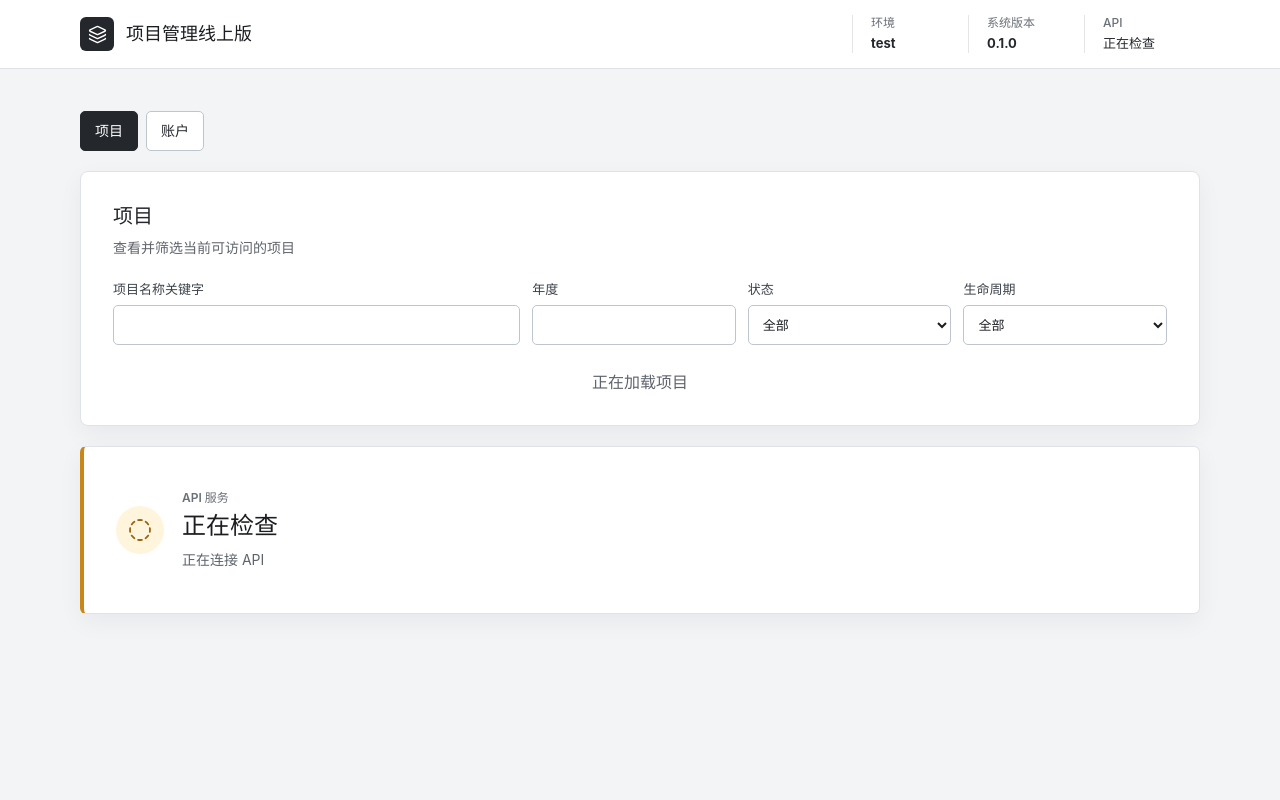
Test case: App › returns to login when an authenticated request receives 401
What coordinates should you click on to do the following:
click the button "账户"
I would click on:
 (175, 131)
Its box is x1=146 y1=111 x2=204 y2=151.
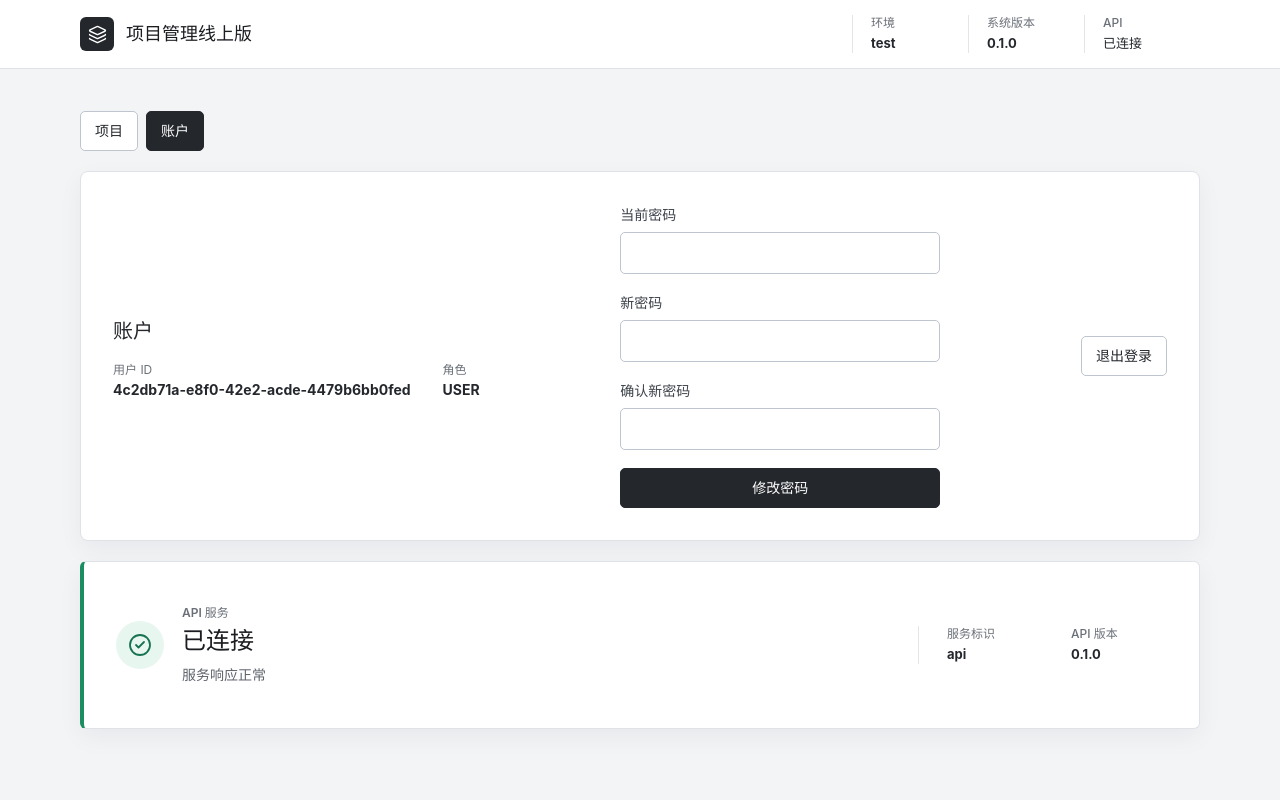
Check: the heading "账户" is shown, box x1=113 y1=318 x2=153 y2=342
What coordinates should you click on to do the following:
click the button "退出登录"
I would click on:
 (1124, 356)
Its box is x1=1081 y1=336 x2=1167 y2=376.
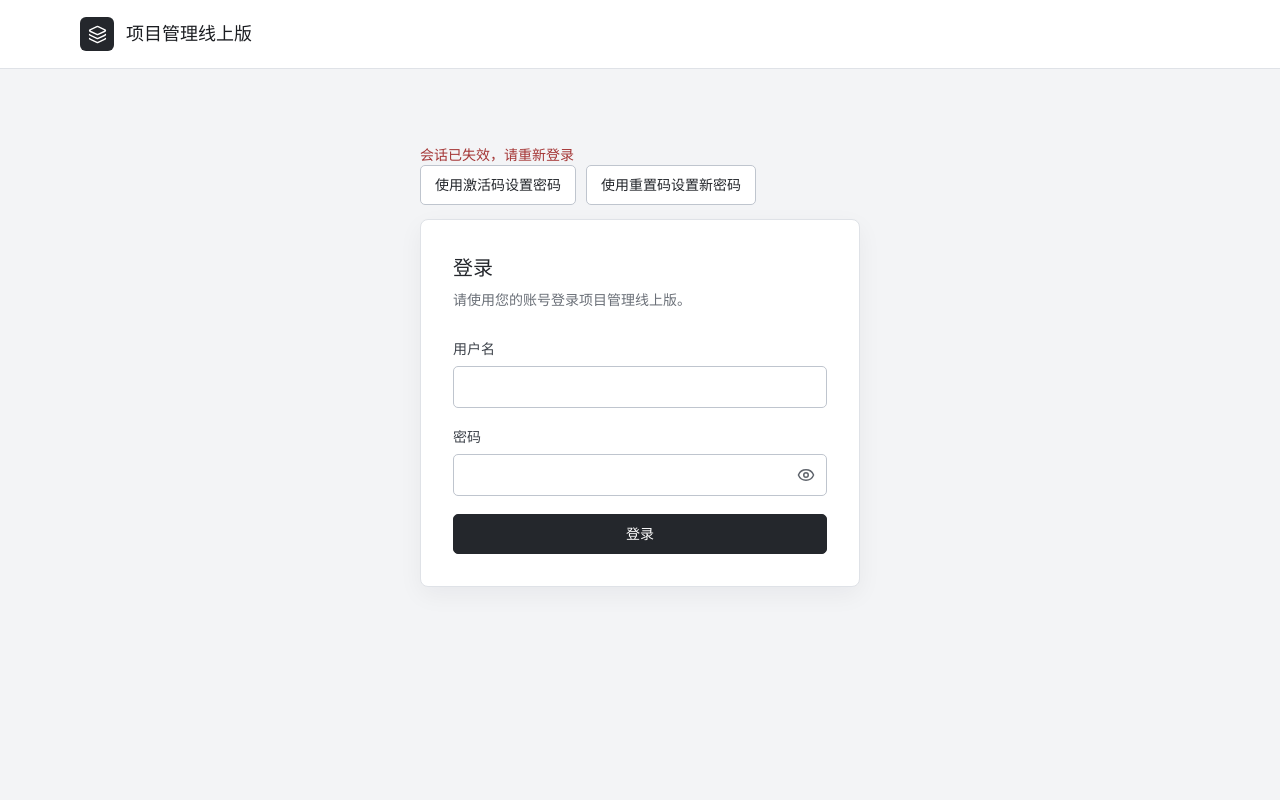
Check: the text "会话已失效，请重新登录" is shown, box x1=420 y1=146 x2=574 y2=163
Check: the heading "登录" is shown, box x1=453 y1=256 x2=493 y2=280
